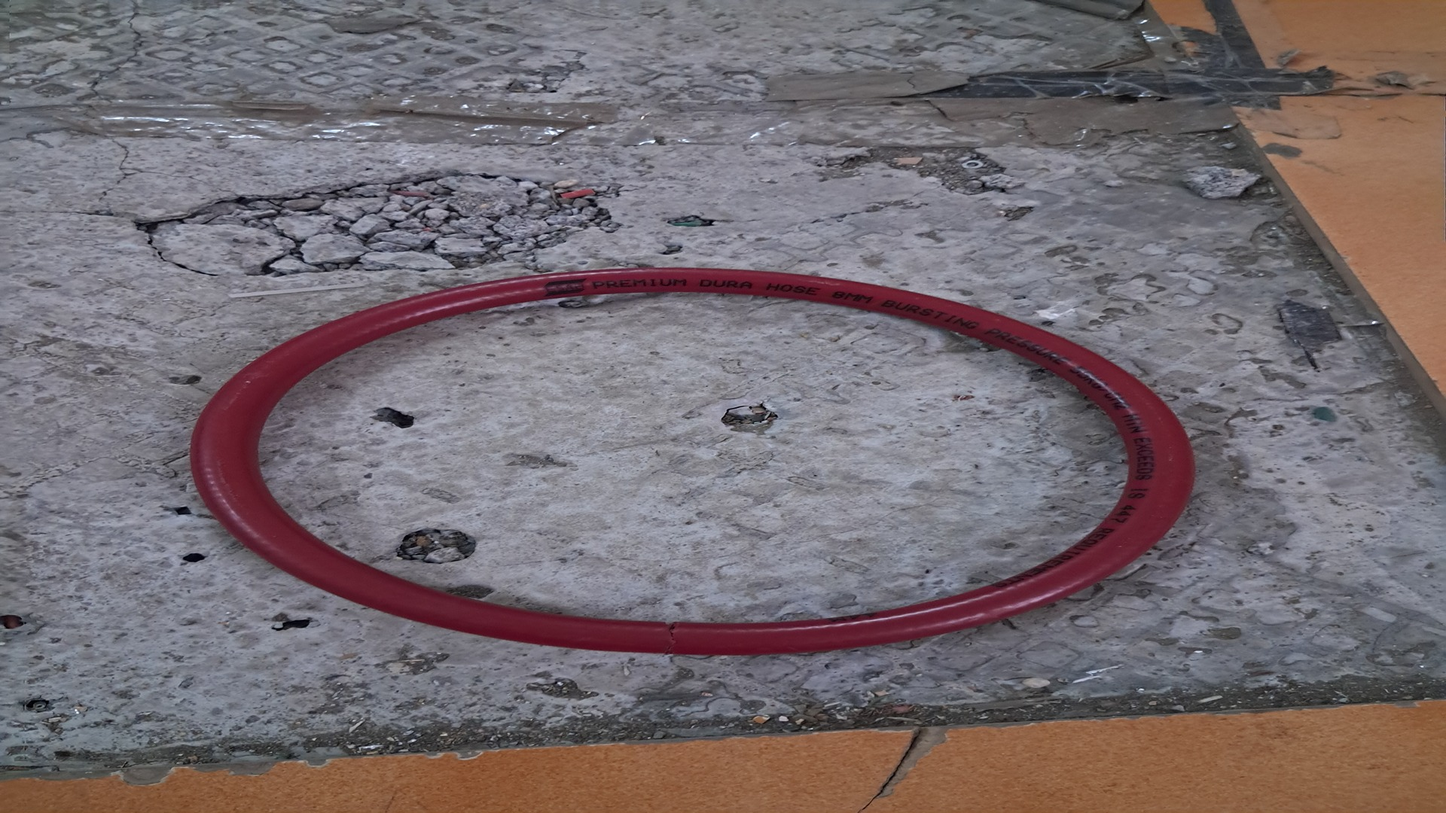Red ring: (191, 274, 1201, 653)
